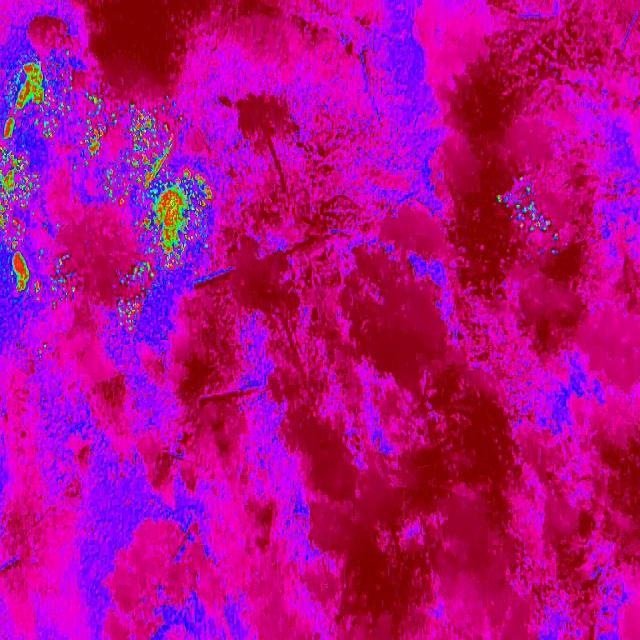fire: (0, 47, 70, 333), (71, 90, 174, 166), (102, 166, 216, 212), (116, 211, 208, 263), (115, 262, 157, 336), (493, 184, 552, 232)
